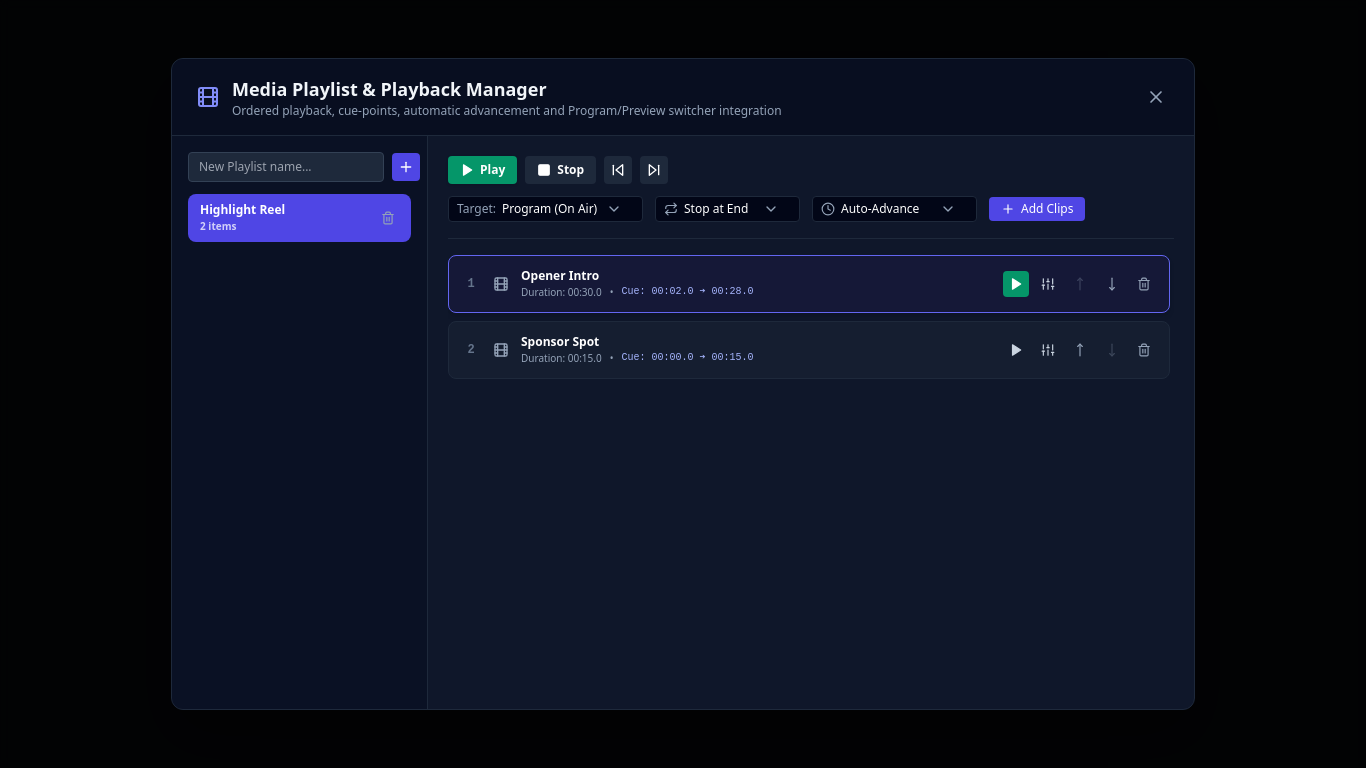
it: LiveStudio Pro Phase 7 Playback, Playlists, Instant Replay and Scheduling › renders PlaylistManagerModal with playlists, controls and cue editor
Check: the heading "Media Playlist & Playback Manager" is shown, box [232,77,547,101]
Check: the text "Highlight Reel" is shown, box [200,202,285,218]
Click the button titled "Edit Cue Points" in the row of "00:28.0": point(1048, 284) [1035,271,1061,297]
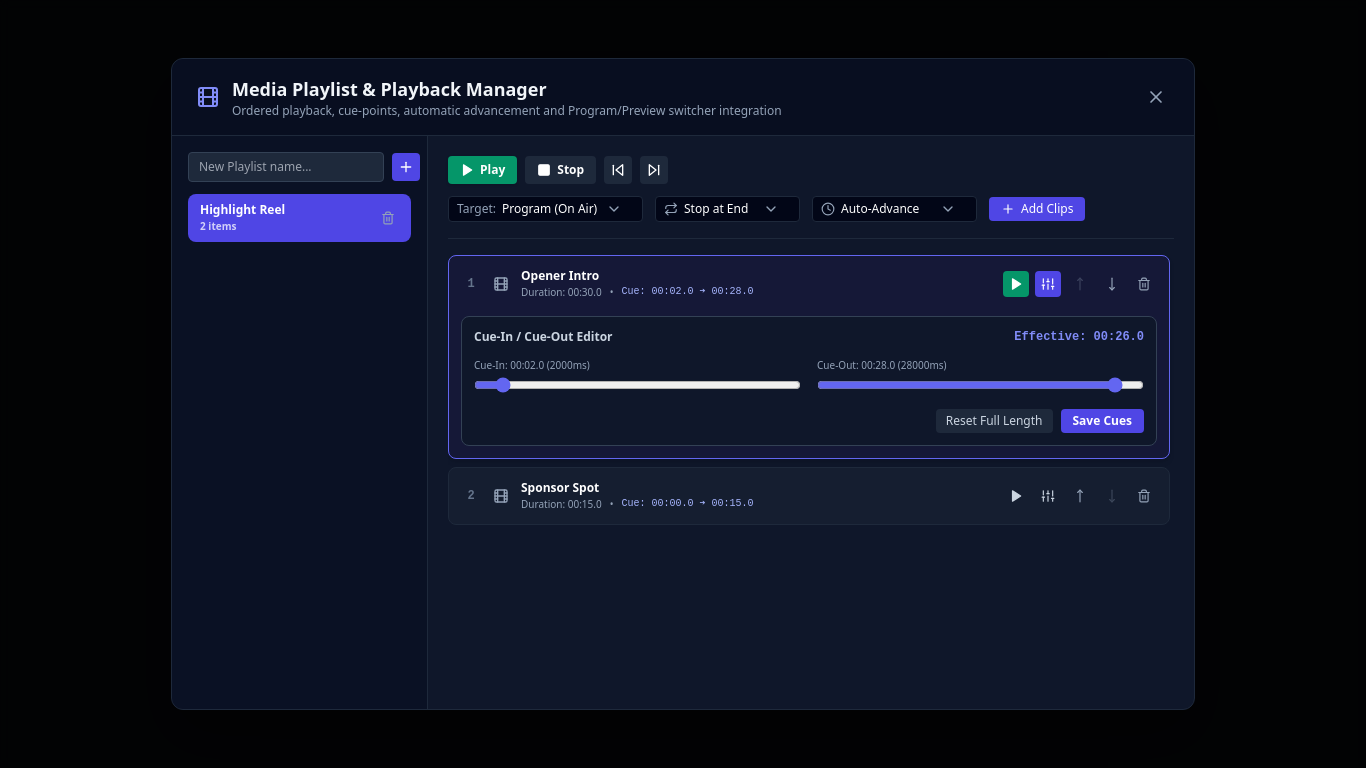
Check: the text "Cue-In / Cue-Out Editor" is shown, box [474,329,612,345]
Check: the button "Reset Full Length" is shown, box [936,409,1052,433]
Check: the button "Save Cues" is shown, box [1060,409,1144,433]
